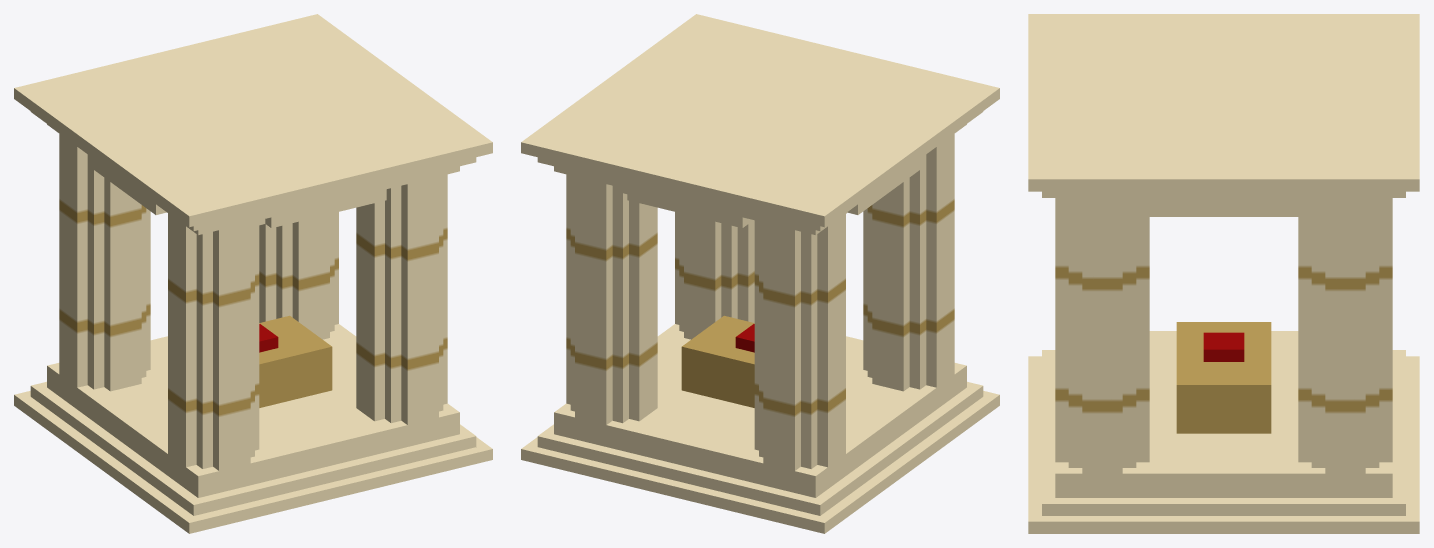
File: eighteenthModel.fbx
The picture shows the model from 3 angles, left to right: view 1: azimuth 30°, elevation 25°; view 2: azimuth 150°, elevation 25°; view 3: azimuth 270°, elevation 25°; orthographic projection. The views are drawn at different scales.
Parts seen in each view (by area): view 1: Box; view 2: Box; view 3: Box.
Part boxes in pixels (<box>): Box: <box>14,14,492,533</box>; Box: <box>521,14,999,533</box>; Box: <box>1028,14,1419,533</box>.
Bounding box in the file's own units: 29 × 29 × 29.
Materials: 1 (1 with a texture image).
